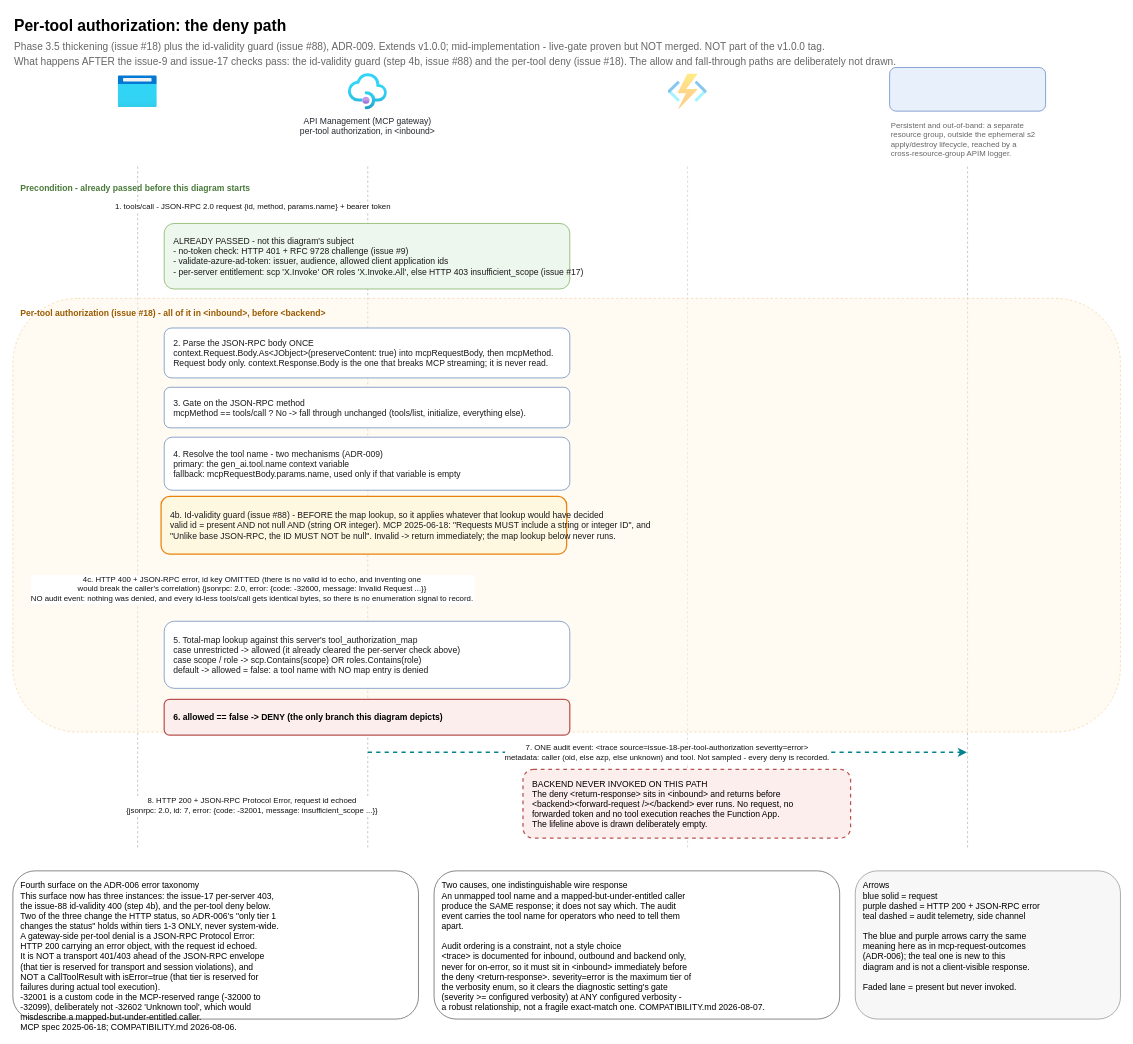
Some shapes in this 1133 by 1044 pixel diagram are drawn without their labels. Here are the shapes that lost their labels. From the top down, the centre of each, then its label:
At [137,91]: "MCP client holds a valid, server-entitled token".
At [687,91]: "MCP server Function App backend - not reached on this path".
At [967,89]: "Application Insights audit sink (side channel)".
